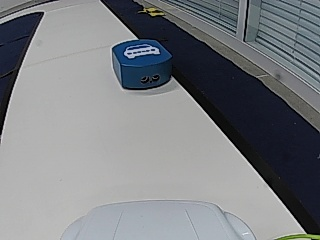safety: (123, 43, 159, 58)
